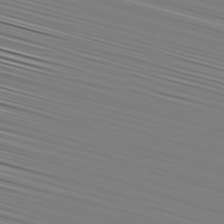cavities: (59, 100, 207, 224)
